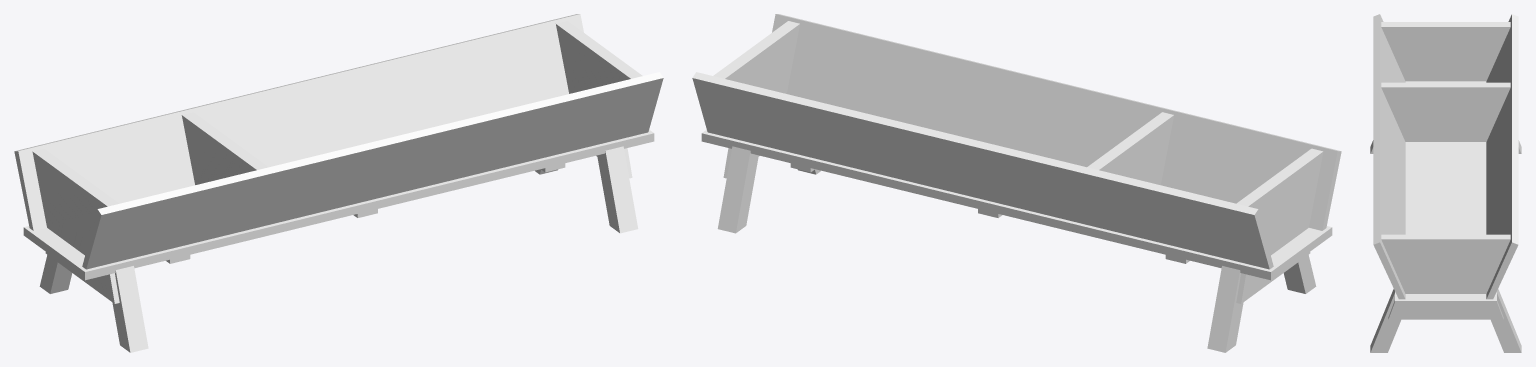
File: Prop_Trough_01.glb
The picture shows the model from 3 angles, left to right: view 1: azimuth 30°, elevation 25°; view 2: azimuth 150°, elevation 25°; view 3: azimuth 270°, elevation 25°; orthographic projection. The views are drawn at different scales.
Parts seen in each view (by area): view 1: Prop_Trough_01; view 2: Prop_Trough_01; view 3: Prop_Trough_01.
Part boxes in pixels (x1=…): Prop_Trough_01: x1=14, y1=14, x2=663, y2=352; Prop_Trough_01: x1=692, y1=14, x2=1341, y2=352; Prop_Trough_01: x1=1370, y1=14, x2=1521, y2=352.
Size of the model in its own units: 3.11 by 0.7626 by 0.8581.
1 material, 1 textured.
